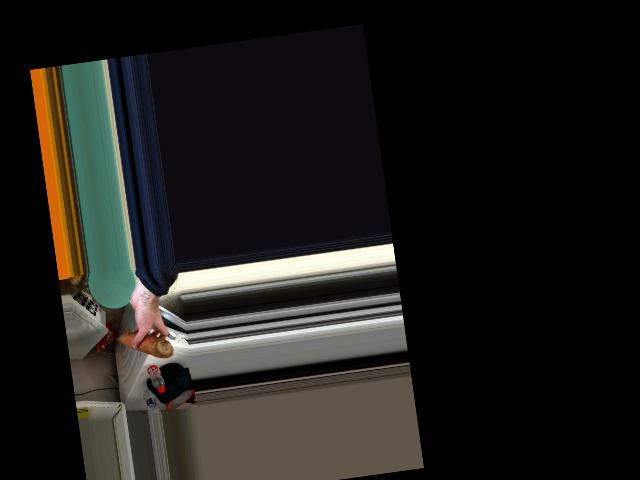sweet_potato: (119, 322, 171, 366)
